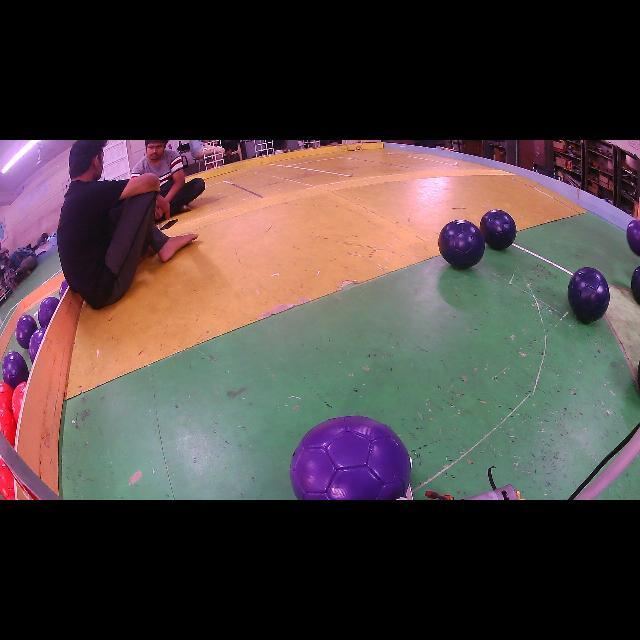B: (568, 268, 610, 324), (438, 220, 485, 269), (479, 209, 517, 250), (631, 266, 640, 304)
P: (290, 416, 411, 500), (1, 352, 28, 390), (16, 315, 37, 348), (37, 297, 58, 328), (28, 329, 45, 364), (626, 220, 640, 256)
R: (0, 459, 15, 500), (0, 410, 16, 446), (11, 384, 25, 423), (0, 384, 12, 412)
